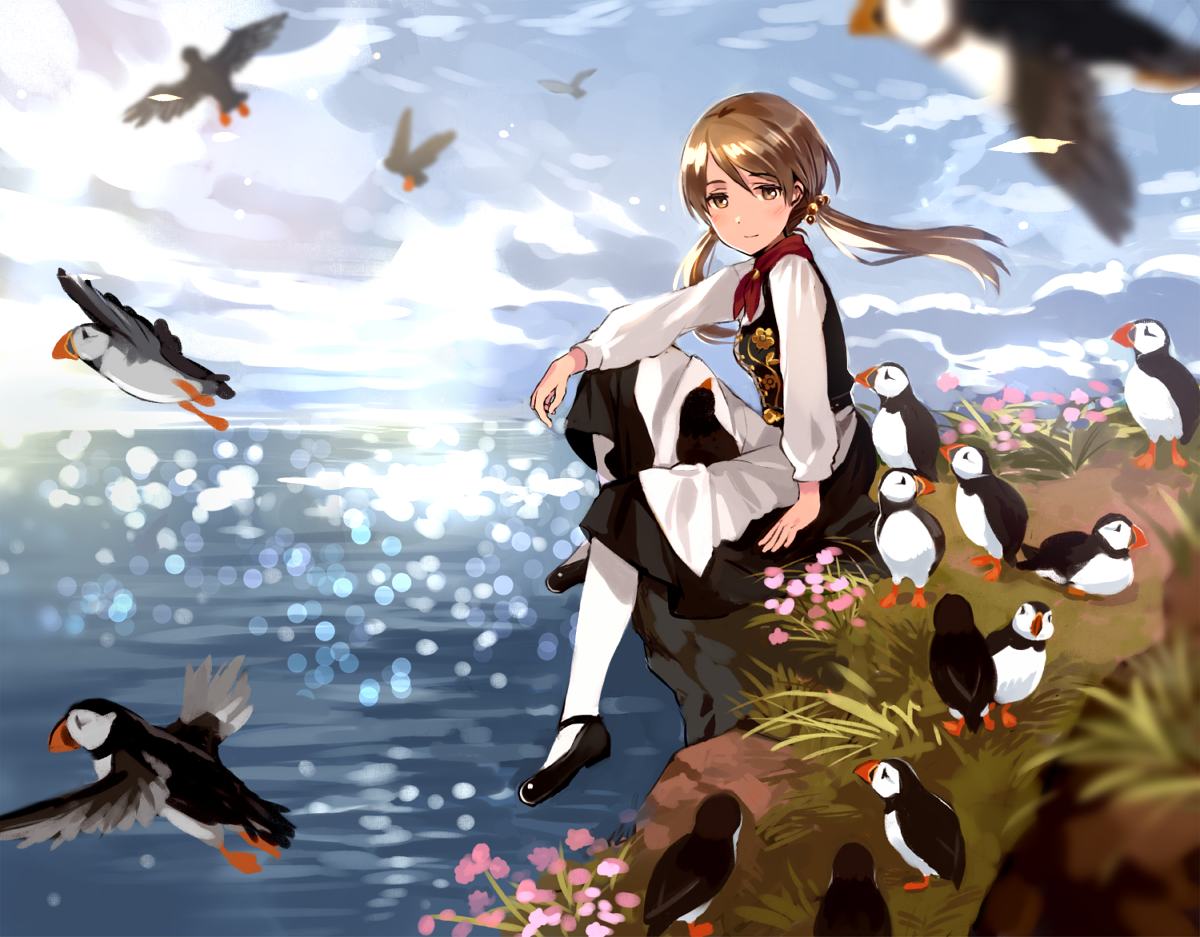纸片人正脸: (673, 86, 832, 263)
